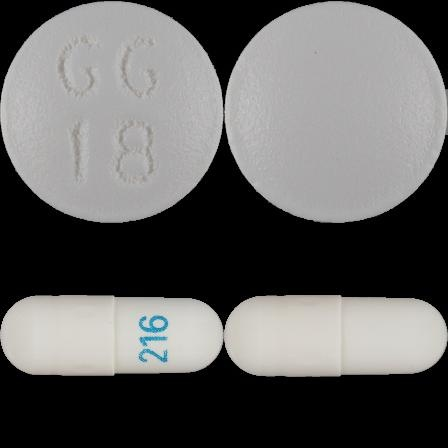55154-3526: (0, 0, 224, 224)
